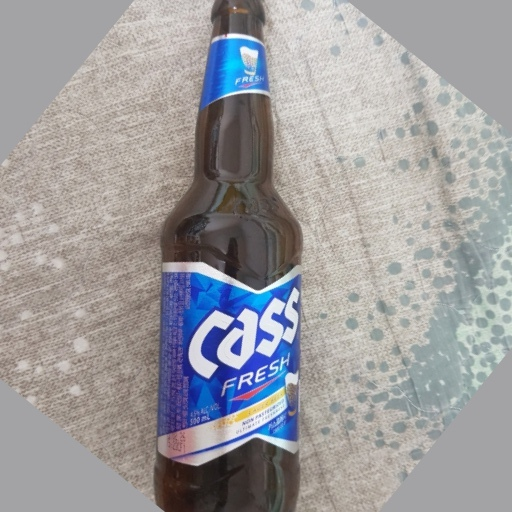Glass_1: (152, 1, 308, 512)
